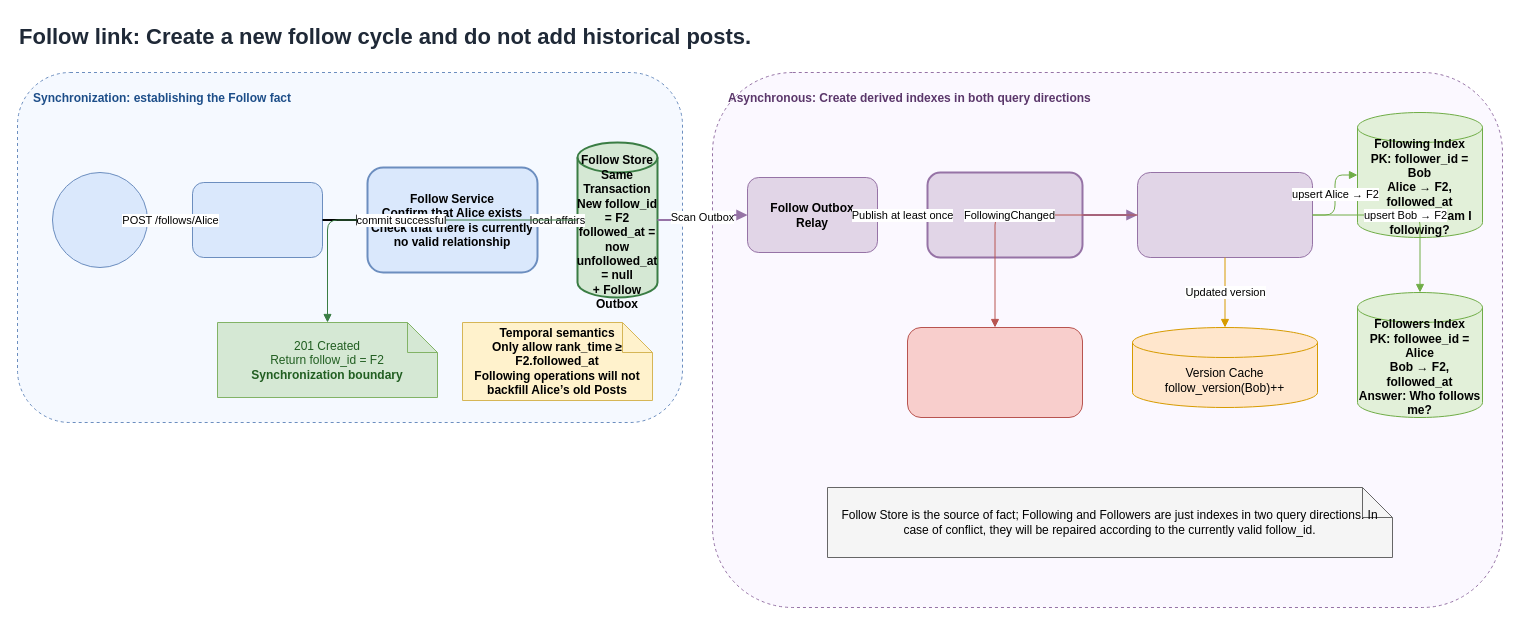
Image size: 1520x625. Some labels were removed from this diagram. Here are the shapes that lost their labels. From the top down, the centre of each, then its label:
At (x=100, y=220): "Bob Follower".
At (x=257, y=220): "API Gateway Authentication / Current Limitation".
At (x=1004, y=214): "FollowEvents Topic FollowStarted(F2)".
At (x=1224, y=215): "Follow Index Worker Event by follow_id idempotent".
At (x=994, y=372): "Cache Invalidation Worker Invalidation following:Bob Invalidation feed-head:Bob".
